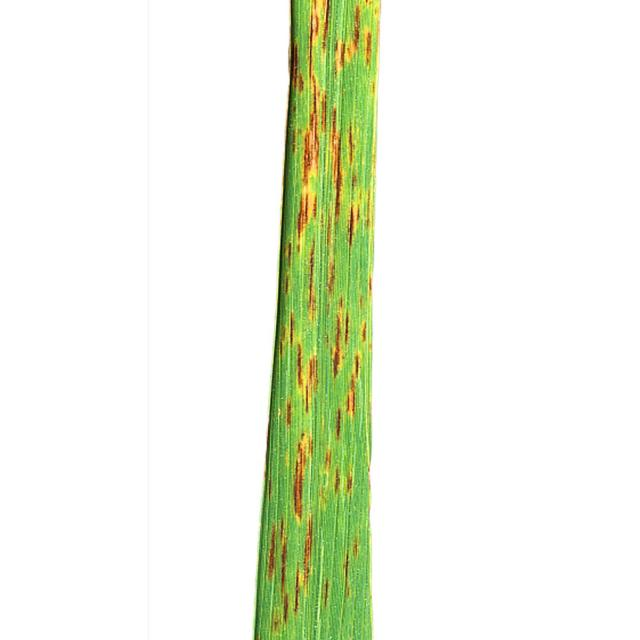Narrow brown: (202, 0, 466, 640)
